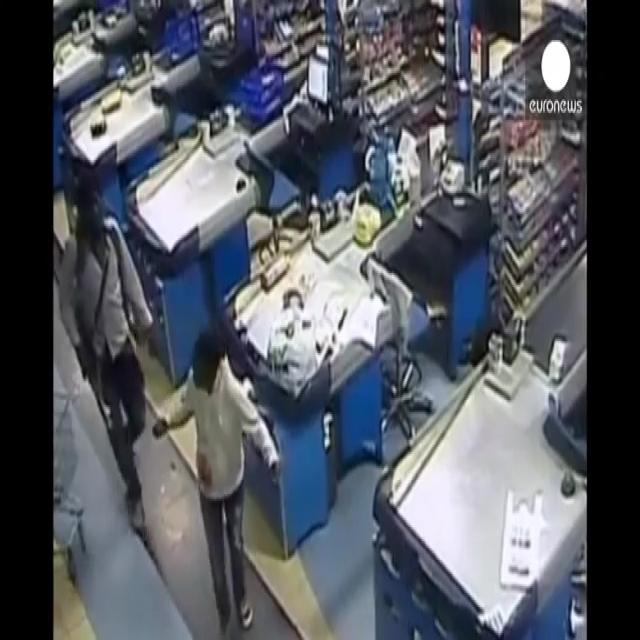Weapon: (66, 295, 130, 460)
